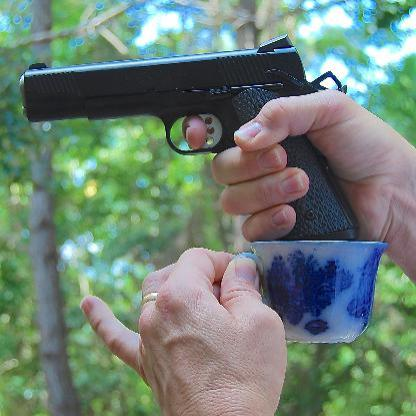pistol: (18, 33, 356, 239)
